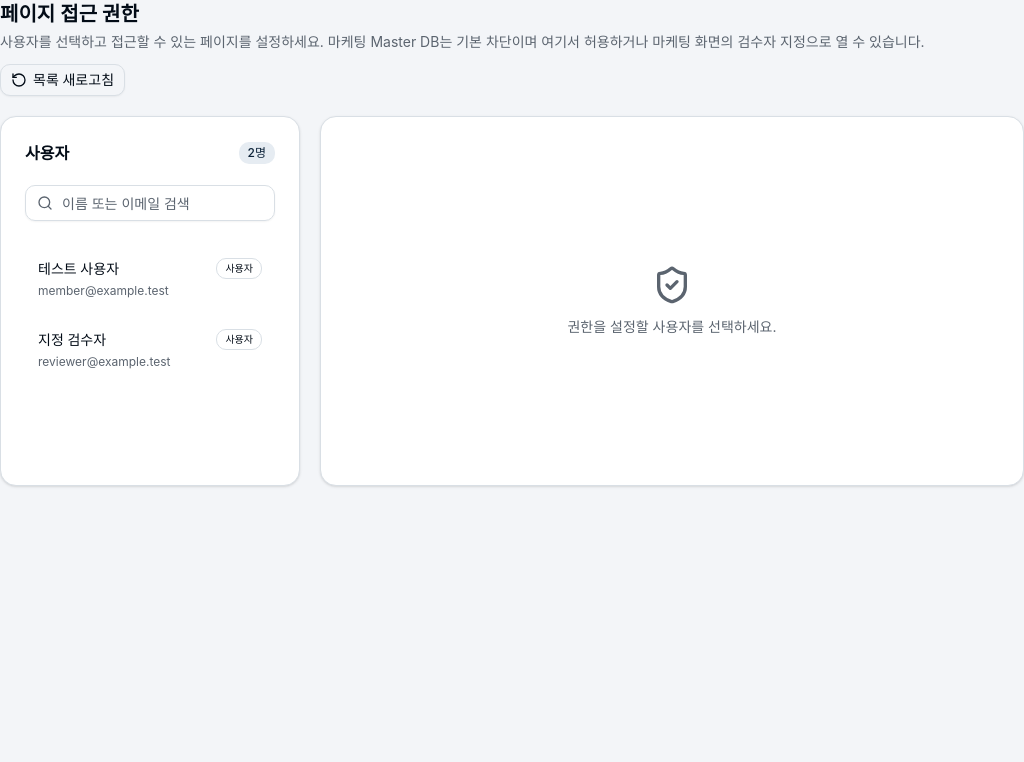
Test: shows marketing as denied by default for users and grants it with an explicit permission
The width and height of the screenshot is (1024, 762).
Step 1. Click the button "테스트 사용자 사용자 member@example.test" → [150, 278], box [25,245,275,312]
(page scrolled)
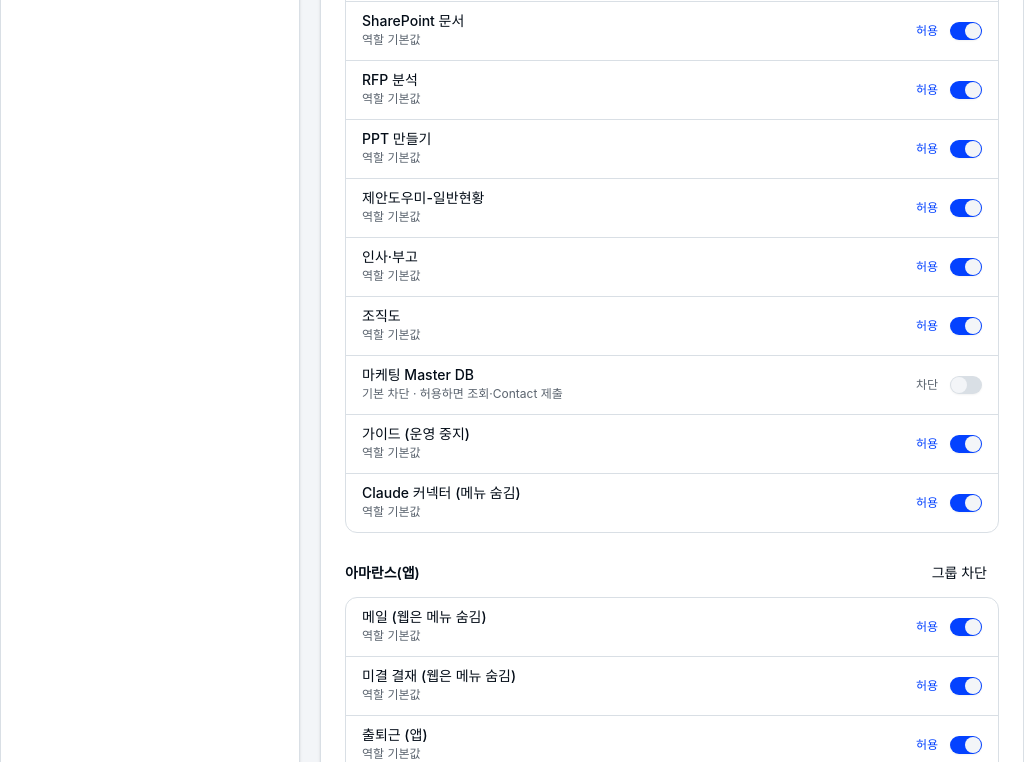
Expected: the switch named "마케팅 Master DB" in the row of "기본 차단 · 허용하면 조회·Contact 제출" is not checked
Expected: the text "기본 차단 · 허용하면 조회·Contact 제출" is shown, [362,386,563,402]
Step 2. Click the switch named "마케팅 Master DB" in the row of "기본 차단 · 허용하면 조회·Contact 제출" → [966, 385], box [950,376,982,394]
(page scrolled)
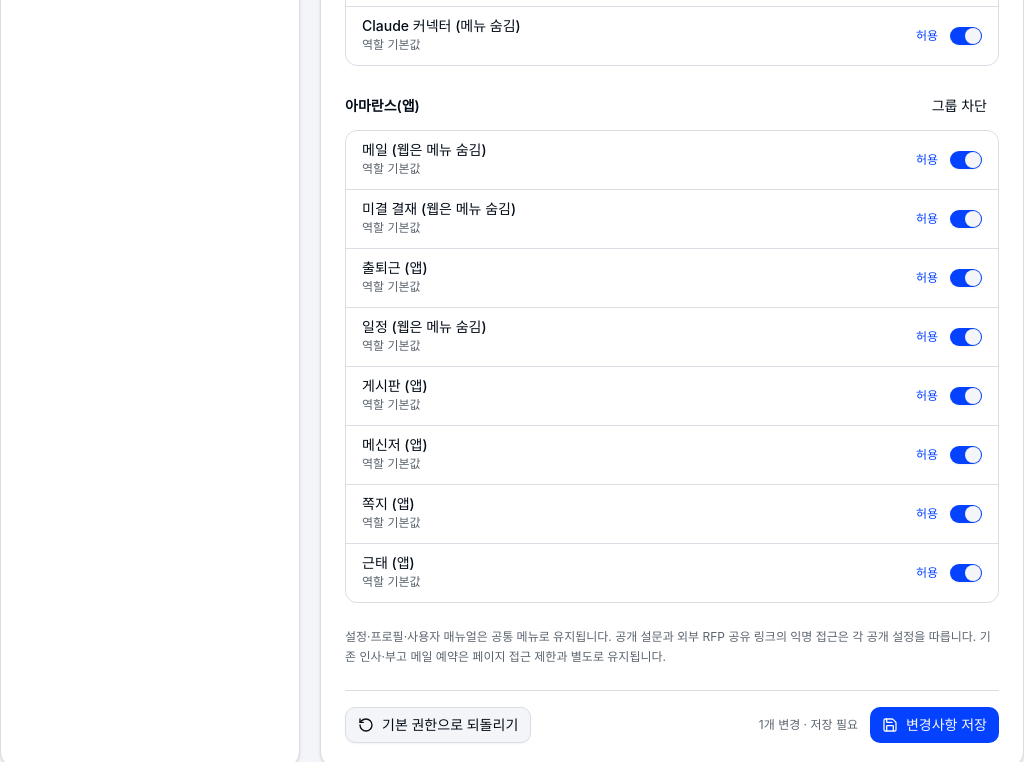
Step 3. Click the button "변경사항 저장" → [934, 725], box [870,707,999,743]
(page scrolled)
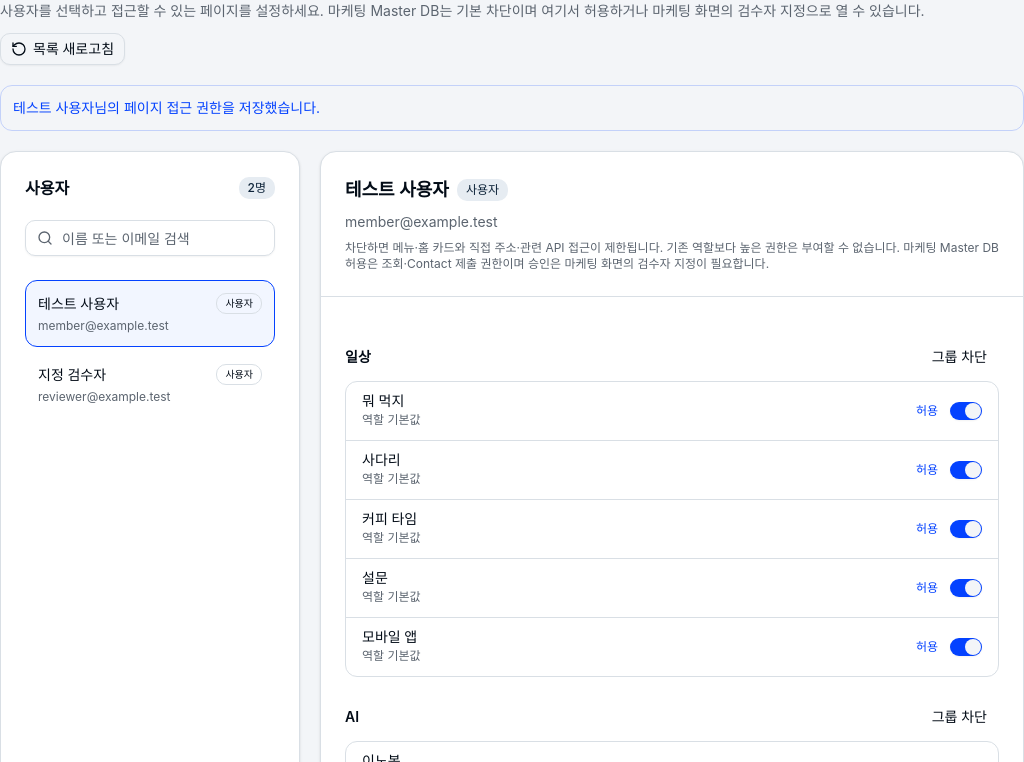
Expected: the text "님의 페이지 접근 권한을 저장했습니다" is shown, [13,99,320,116]
Step 4. Click the button "지정 검수자 사용자 reviewer@example.test" → [150, 384], box [25,351,275,418]
(page scrolled)
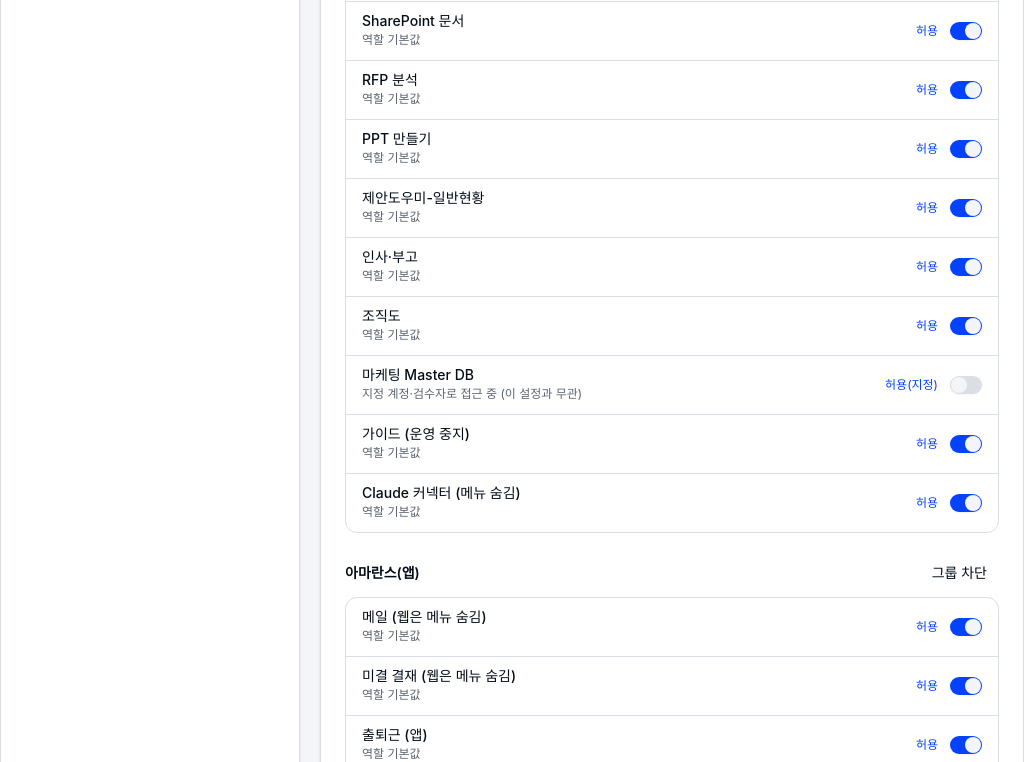
Expected: the text "지정 계정·검수자로 접근 중 (이 설정과 무관)" is shown, [362,386,582,402]
Expected: the text "허용(지정)" is shown, [885,377,938,393]
